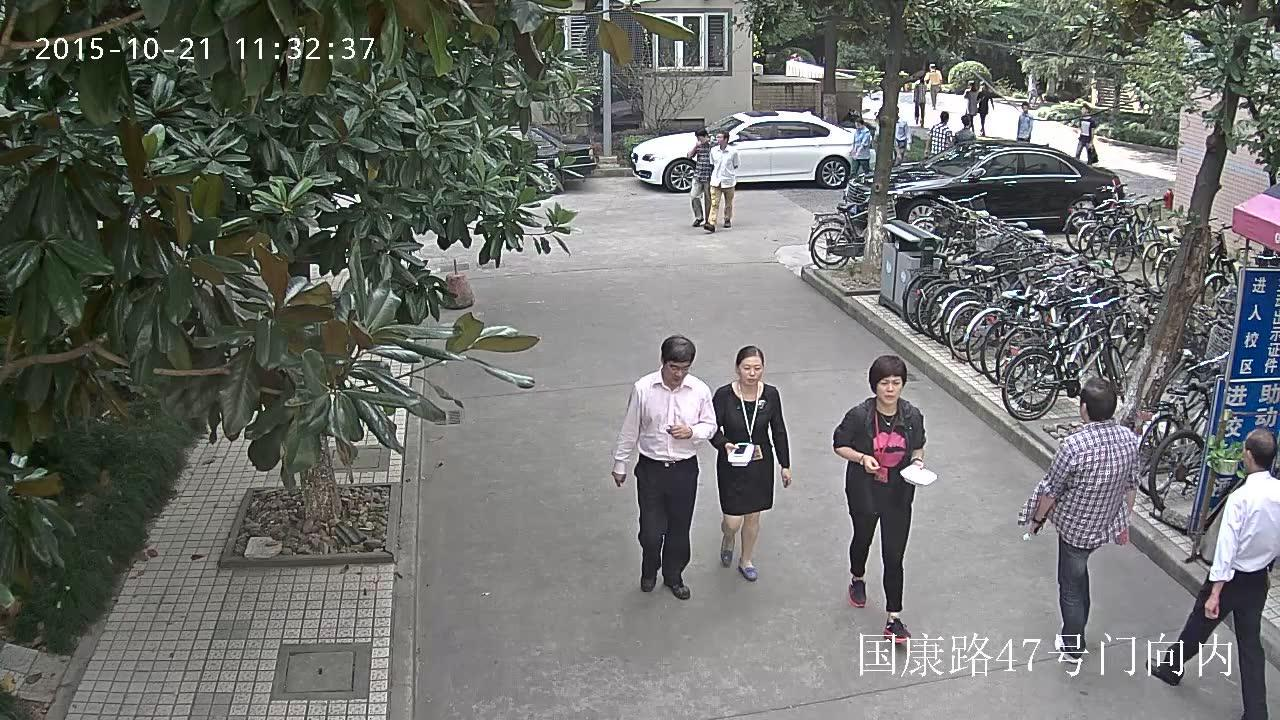person: (1145, 429, 1280, 720), (1016, 378, 1139, 662), (833, 354, 937, 644), (611, 336, 717, 598), (709, 346, 791, 582), (703, 132, 738, 232), (686, 127, 716, 230), (1076, 103, 1098, 168), (849, 117, 870, 179), (929, 111, 952, 160), (892, 106, 910, 166), (976, 82, 993, 137), (925, 63, 942, 110), (954, 114, 976, 147), (964, 81, 978, 131), (913, 75, 925, 127), (1016, 101, 1031, 142)
